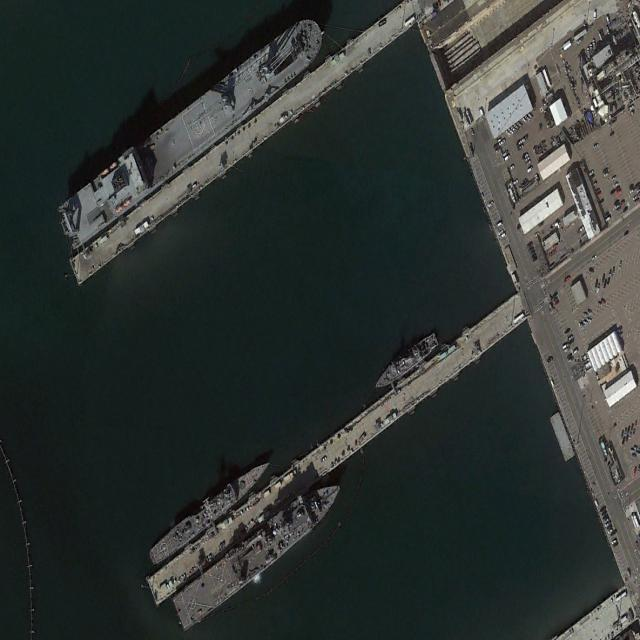Frigate: (145, 450, 275, 569)
Landing: (171, 468, 347, 634)
Other Ship: (55, 5, 330, 253), (371, 328, 440, 396)
